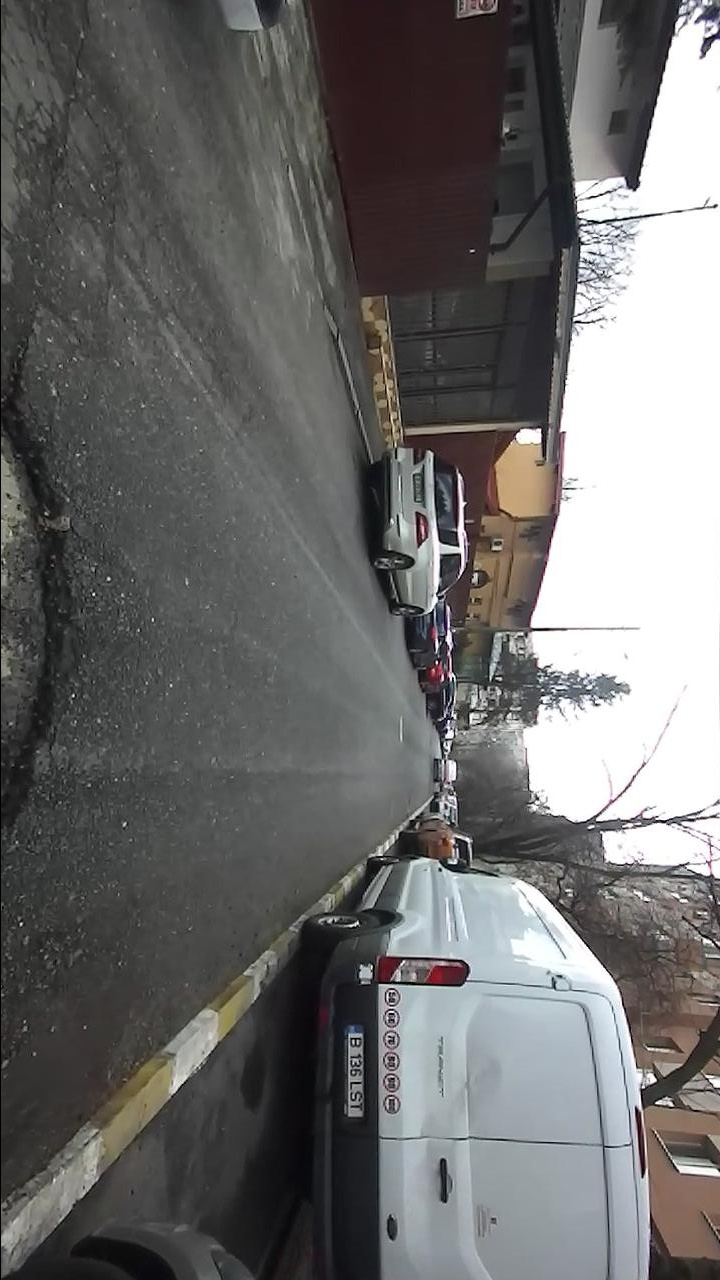pothole: (1, 327, 88, 880)
